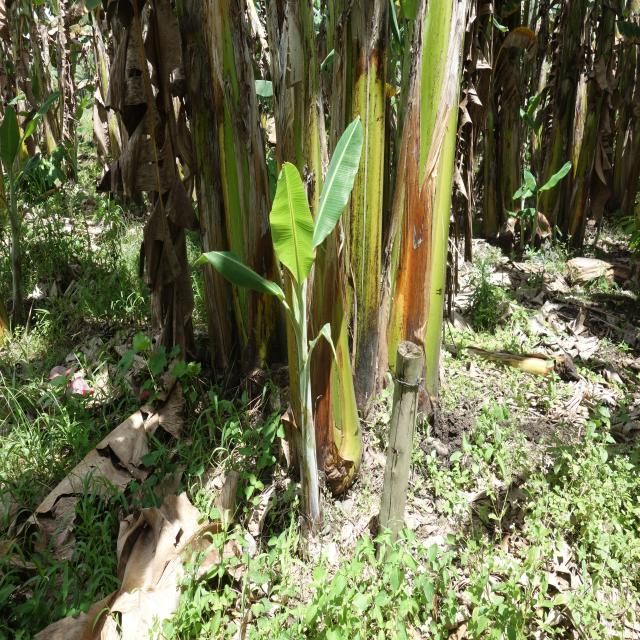Banana-plant: (263, 0, 361, 498), (323, 0, 390, 416), (399, 0, 466, 411), (198, 0, 261, 381)
